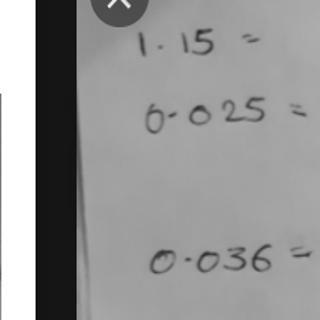.: (180, 248, 196, 264), (166, 107, 181, 124), (155, 40, 166, 54)
0: (149, 247, 176, 274), (195, 249, 221, 275), (185, 104, 211, 127), (146, 104, 164, 135)
1: (176, 28, 189, 55), (137, 31, 149, 60)
2: (221, 99, 243, 122)
3: (221, 245, 249, 273)
5: (243, 95, 268, 123), (193, 26, 216, 56)
6: (250, 241, 273, 275)
